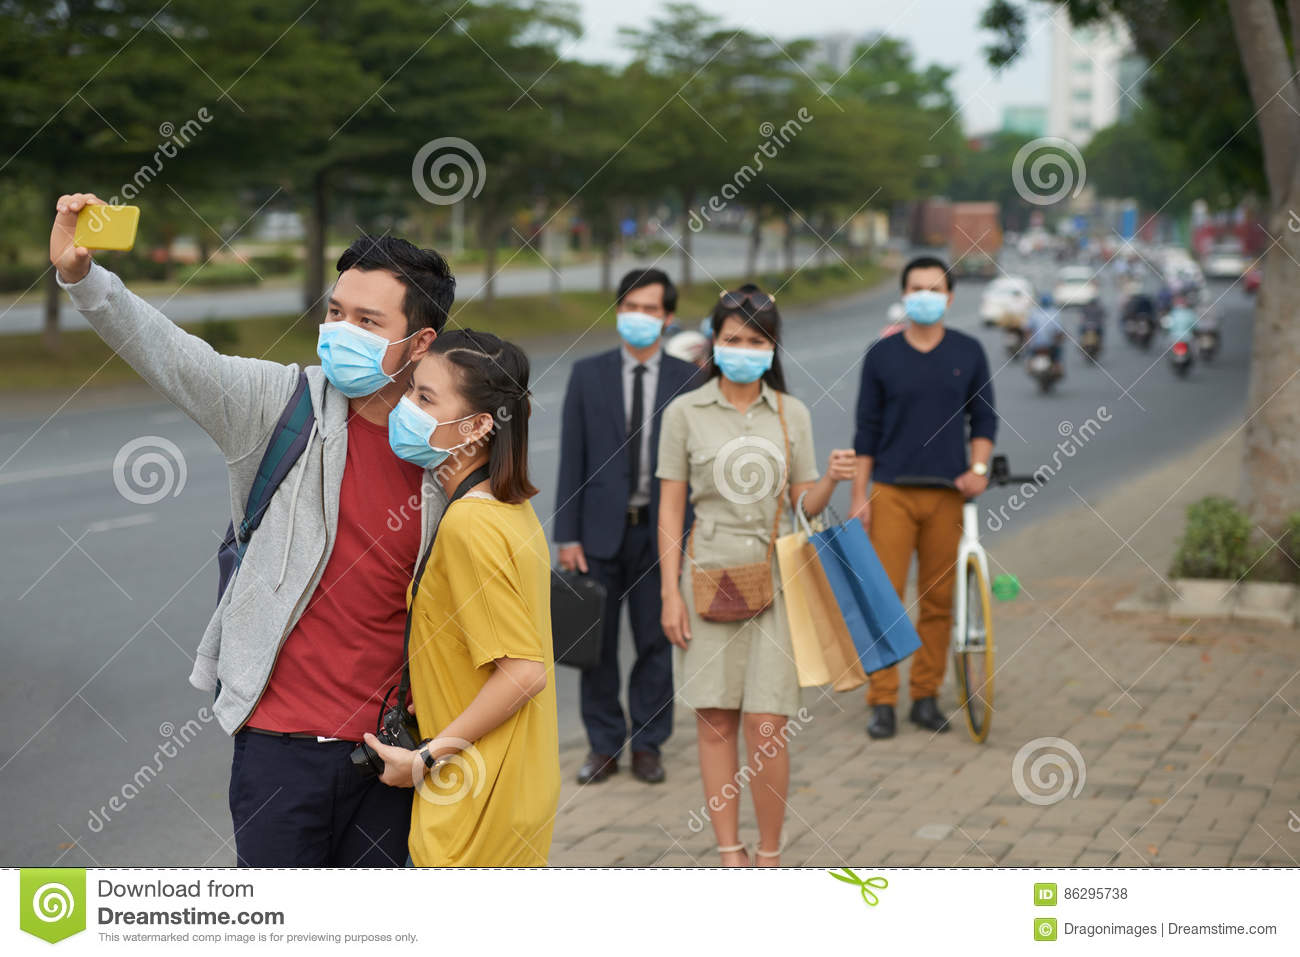mask: (311, 321, 395, 402), (383, 396, 439, 463), (711, 342, 779, 388), (901, 288, 950, 326), (613, 311, 661, 346)
